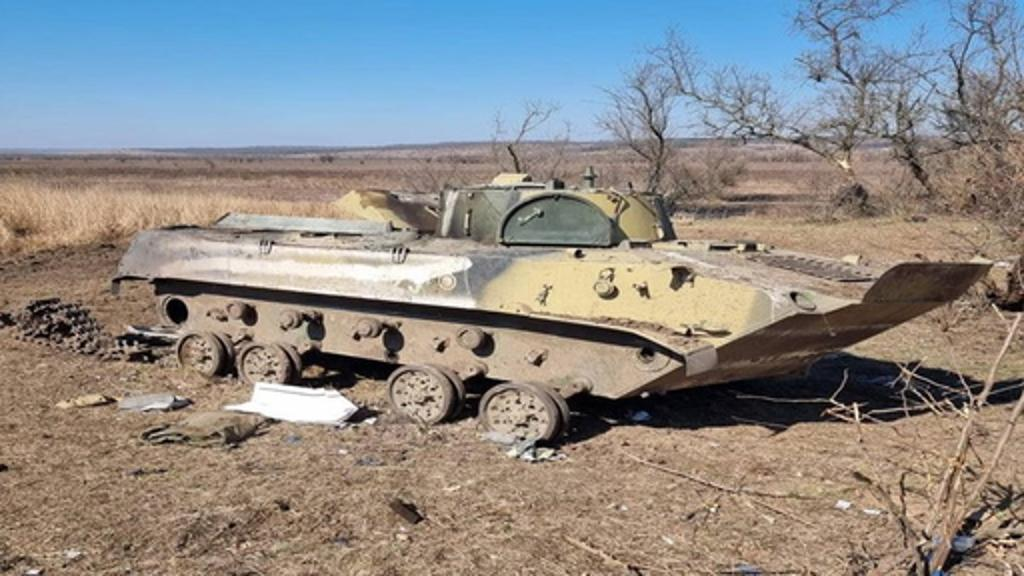APC-IFV: (114, 156, 984, 462)
